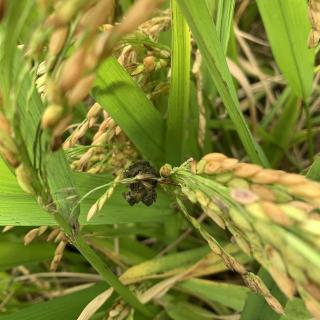Gosong-Palsu: (120, 160, 162, 207)
